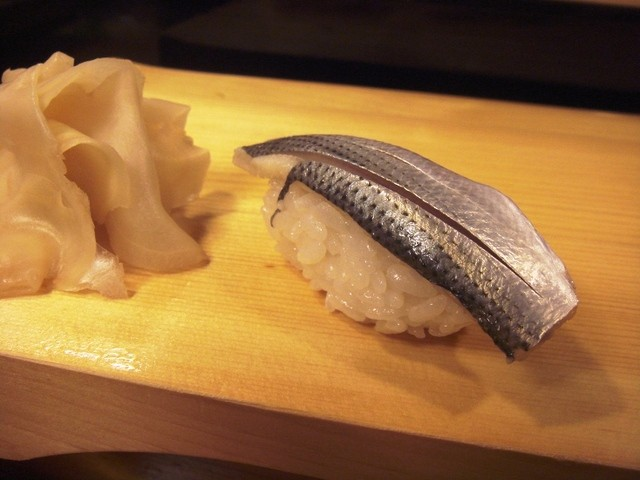spotted-shad: (231, 132, 581, 368)
